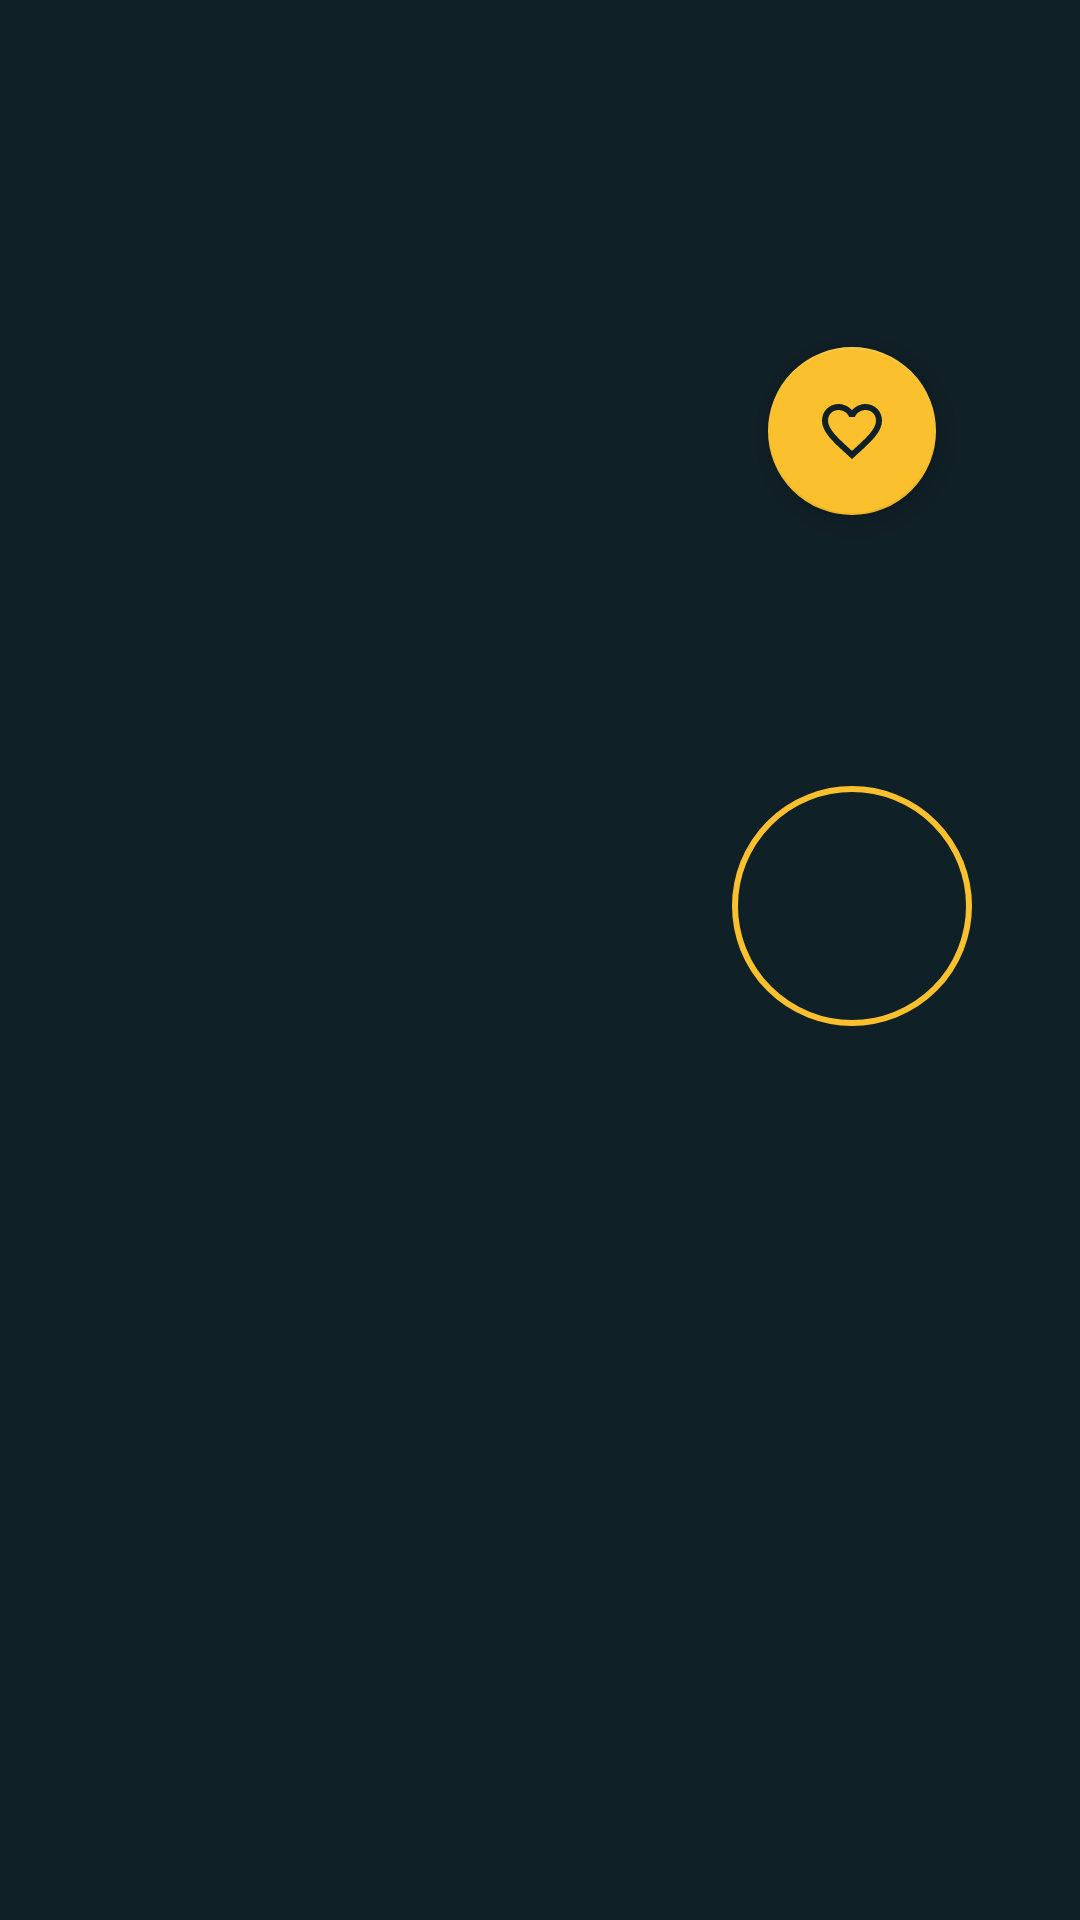

Icon bounding boxes for this 1080 × 1920 phone screenshot, format (x1, y1, x2, y2):
unfavorite: (768, 347, 936, 515)
